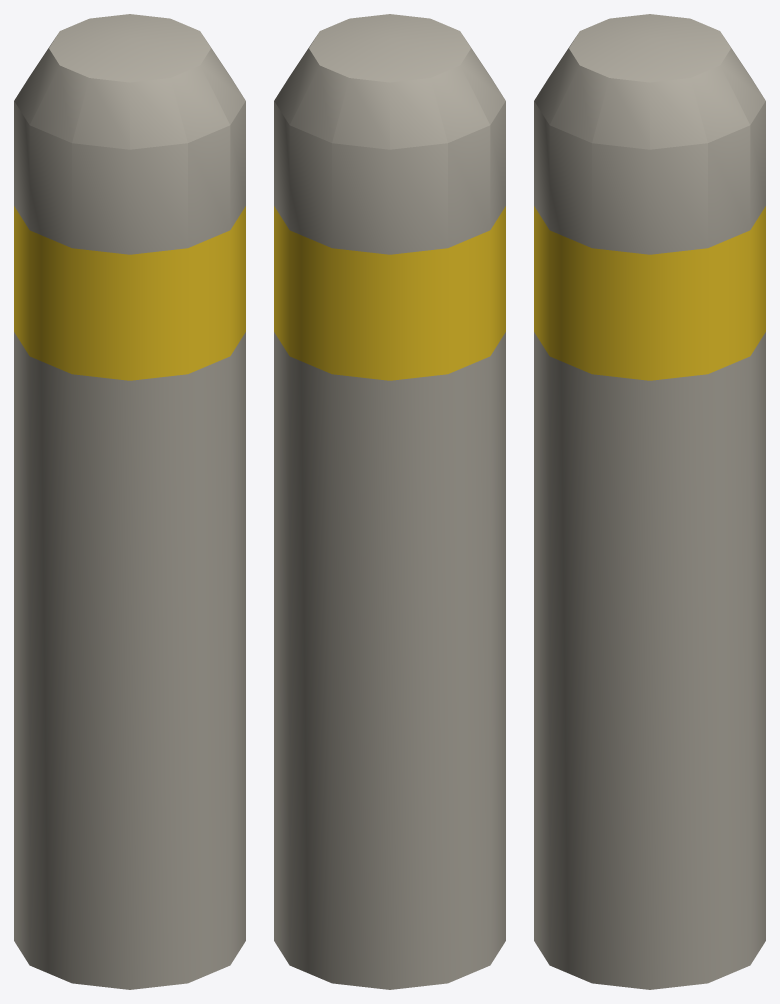
The model's file is env_bollard.obj.
The picture shows the model from 3 angles, left to right: view 1: azimuth 30°, elevation 25°; view 2: azimuth 150°, elevation 25°; view 3: azimuth 270°, elevation 25°; orthographic projection.
Visible parts, largest first — view 1: Bollard; view 2: Bollard; view 3: Bollard.
Part boxes in pixels (bbox=[...]): Bollard: bbox=[14, 14, 245, 989]; Bollard: bbox=[274, 14, 505, 989]; Bollard: bbox=[534, 14, 765, 989].
Bounding box in the file's own units: 0.2 × 0.86 × 0.2.
